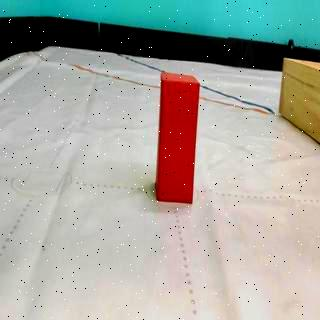redbox: (156, 72, 200, 204)
